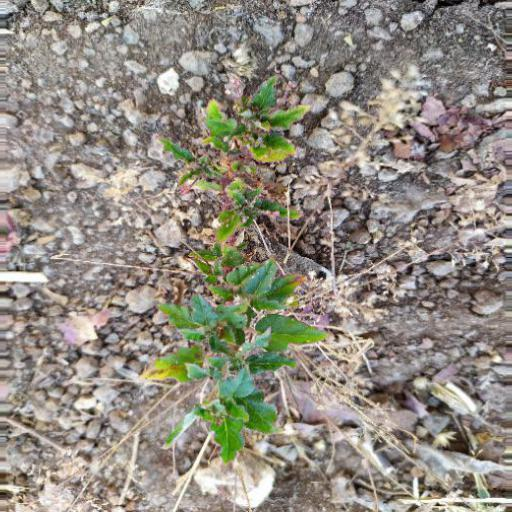weed: (144, 96, 331, 473)
